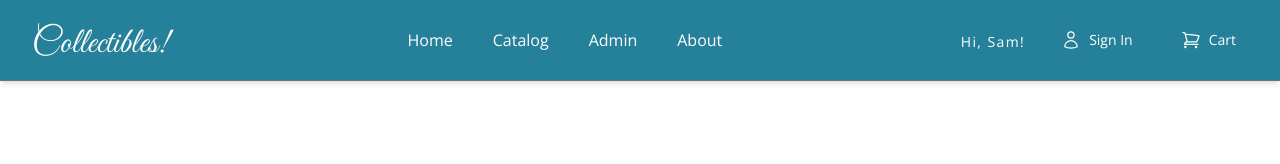
Test: NavBar.vue › desktop admin menu › opens the dropdown, revealing Edit Items and Reset links, when the Admin button is clicked
Click the button with test id "admin-menu-btn": (613, 40) top-left (573, 20), bottom-right (653, 60)
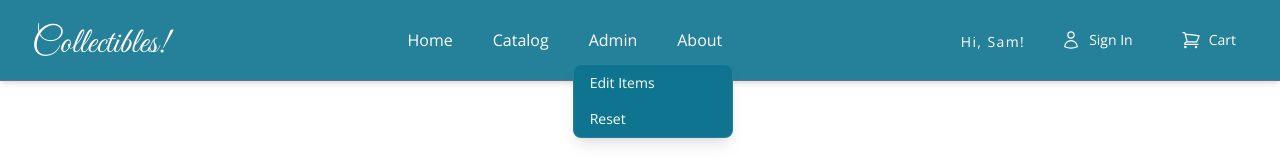
Check: the element with test id "admin-menu" is shown, box top-left (573, 64), bottom-right (733, 138)
Check: the link "Edit Items" is shown, box top-left (590, 73), bottom-right (655, 92)
Check: the link "Reset" is shown, box top-left (590, 109), bottom-right (626, 128)
